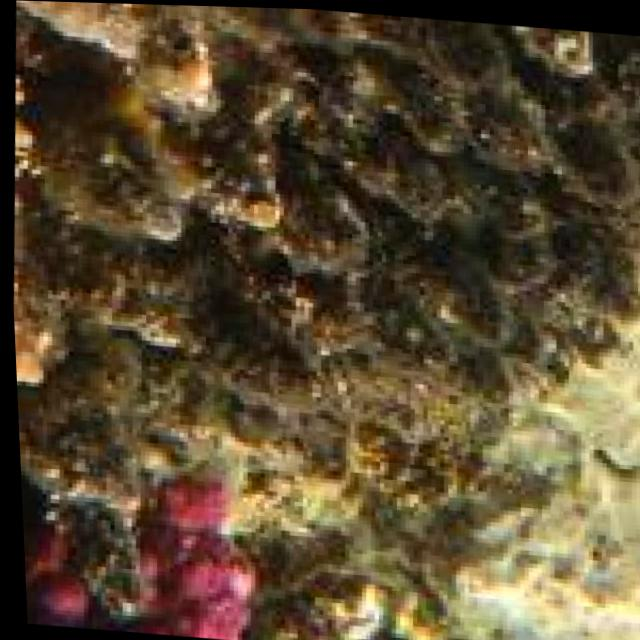Dead Coral: (0, 0, 640, 431)
Healthy Coral: (124, 464, 259, 640)
